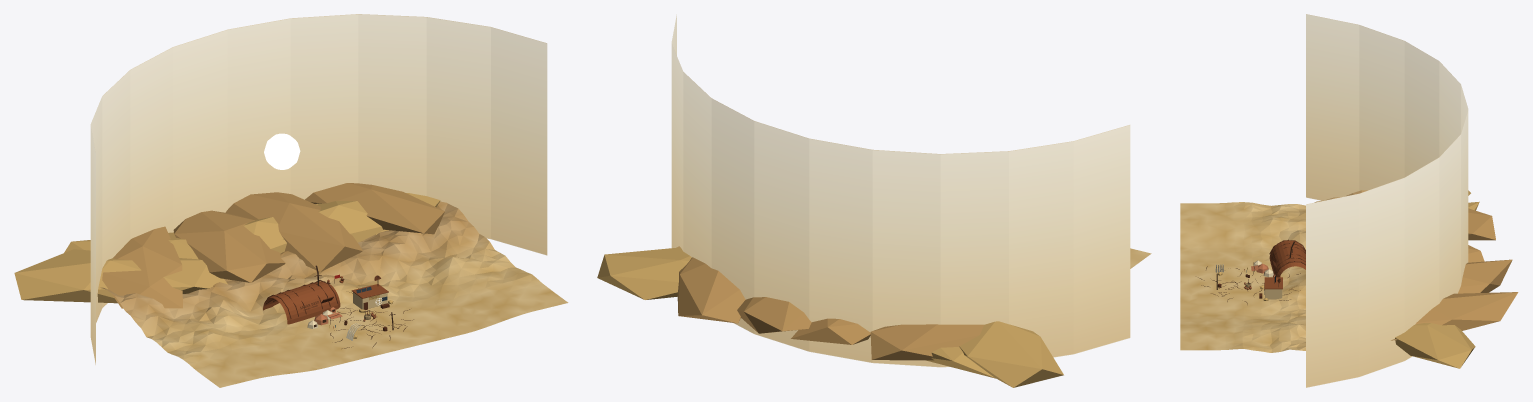
File: room1.glb
3 renders of one model, left to right at view 1: azimuth 30°, elevation 25°; view 2: azimuth 150°, elevation 25°; view 3: azimuth 270°, elevation 25°, orthographic. The views are drawn at different scales.
Parts seen in each view (by area): view 1: backdrop_room1_sky, seabed_ground, far_ridges, ship_hull, sun_disc, station; view 2: backdrop_room1_sky, far_ridges; view 3: backdrop_room1_sky, seabed_ground, far_ridges, ship_hull, station.
Boxes of the visible parts, box(x1,y1,x2,y2) form: backdrop_room1_sky: box(90, 14, 547, 364); seabed_ground: box(100, 201, 568, 387); far_ridges: box(14, 183, 444, 308); ship_hull: box(263, 265, 340, 324); sun_disc: box(264, 133, 300, 169); station: box(351, 275, 393, 312); backdrop_room1_sky: box(671, 14, 1130, 367); far_ridges: box(597, 247, 1063, 387); backdrop_room1_sky: box(1306, 14, 1468, 387); seabed_ground: box(1180, 190, 1397, 352); far_ridges: box(1395, 190, 1518, 368); ship_hull: box(1269, 239, 1305, 277); station: box(1259, 275, 1282, 300).
Size of the model in its own units: 144 by 64 by 107.
26 materials, 3 textured.
